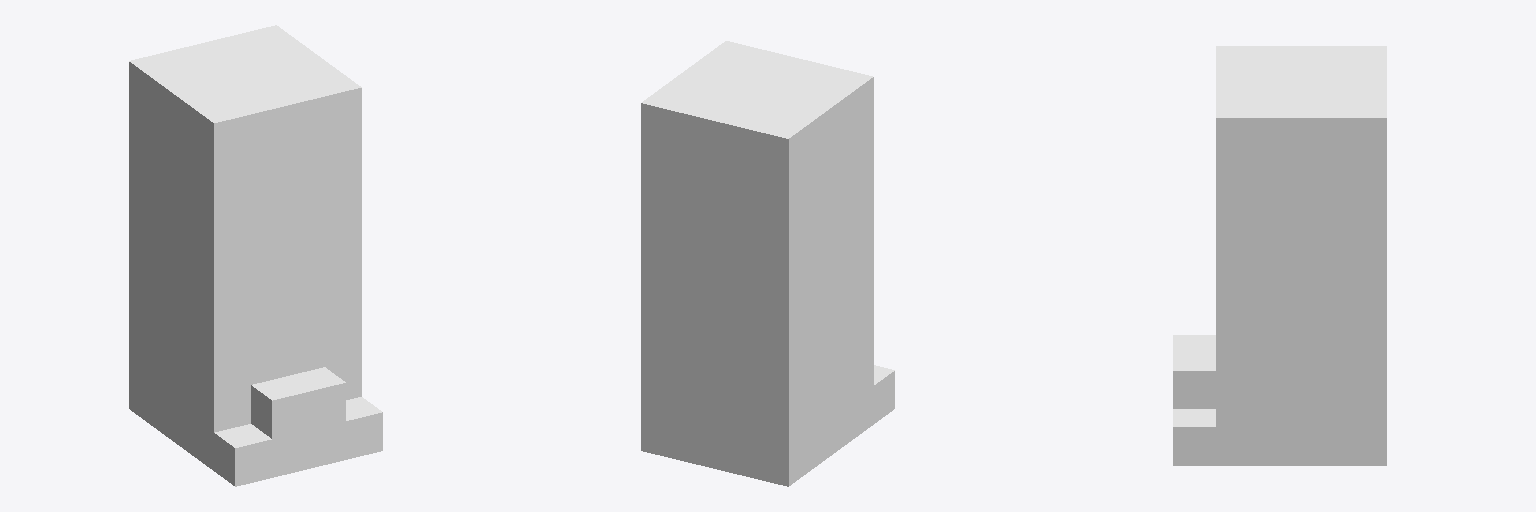
File: LowerLeg.obj
The picture shows the model from 3 angles: view 1: azimuth 30°, elevation 25°; view 2: azimuth 150°, elevation 25°; view 3: azimuth 270°, elevation 25°; orthographic projection.
Parts seen in each view (by area): view 1: object 1; view 2: object 1; view 3: object 1.
Boxes of the visible parts, x1=… form: object 1: x1=129, y1=25, x2=382, y2=486; object 1: x1=641, y1=41, x2=894, y2=486; object 1: x1=1173, y1=46, x2=1386, y2=465.
Size of the model in its own units: 0.4 by 0.9 by 0.5.